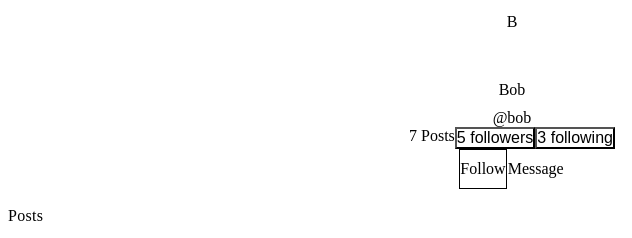
Test: UserRoute › follows a user and bumps the follower count optimistically
Click the button "Follow": x=483, y=169 [459,149,507,189]
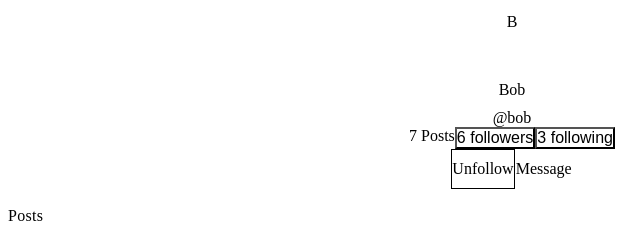
Expected: the text "6" is shown, [457,129,466,146]
Expected: the button "Unfollow" is shown, [451,149,515,189]
